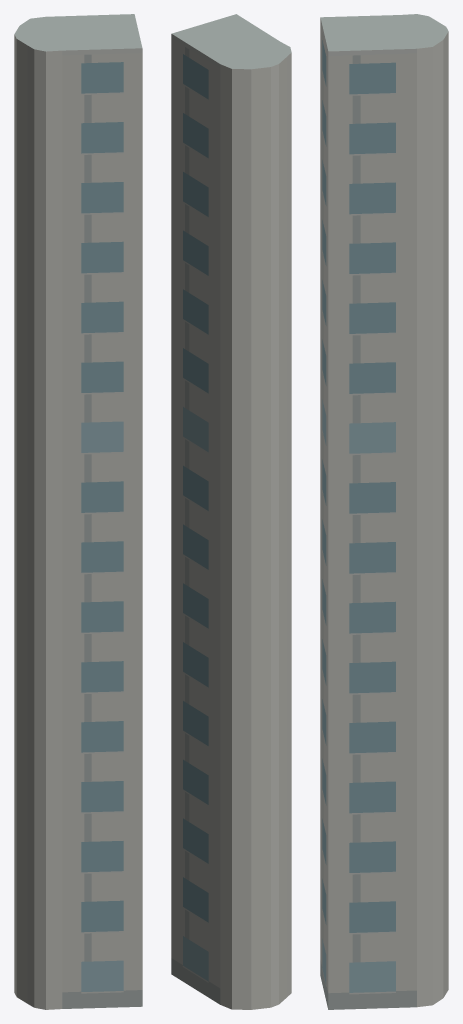
The model's file is survey-upis-32697844.glb.
3 views of the same model, side by side, from view 1: azimuth 90°, elevation 25°; view 2: azimuth 210°, elevation 25°; view 3: azimuth 270°, elevation 25° (orthographic).
Parts seen in each view (by area): view 1: survey-upis-32697844.tmp; view 2: survey-upis-32697844.tmp; view 3: survey-upis-32697844.tmp.
Part boxes in pixels (x1,y1,x2,y2): survey-upis-32697844.tmp: (14,14,142,1009); survey-upis-32697844.tmp: (171,14,291,1009); survey-upis-32697844.tmp: (320,14,448,1009).
Size of the model in its own units: 4.1 by 48.8 by 5.92.
